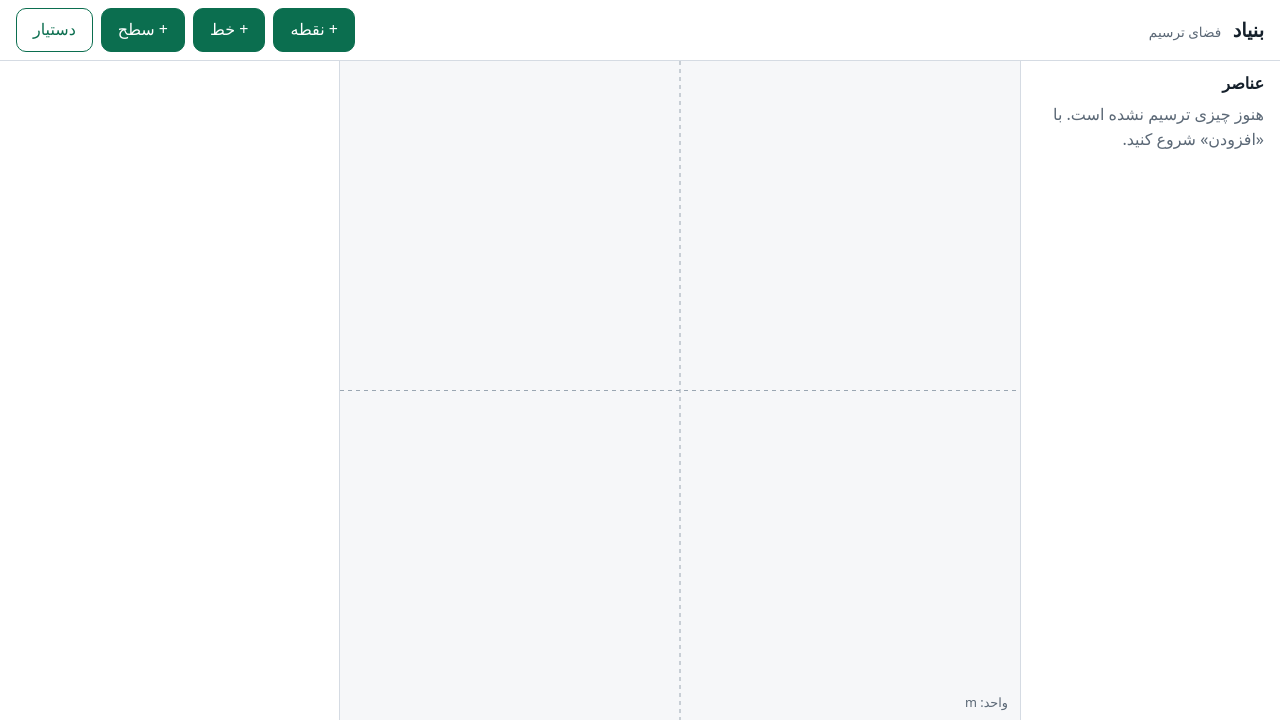
assistant panel › restores the last conversation after a reload
Click the button "دستیار" at (54, 30), box [16, 8, 93, 52]
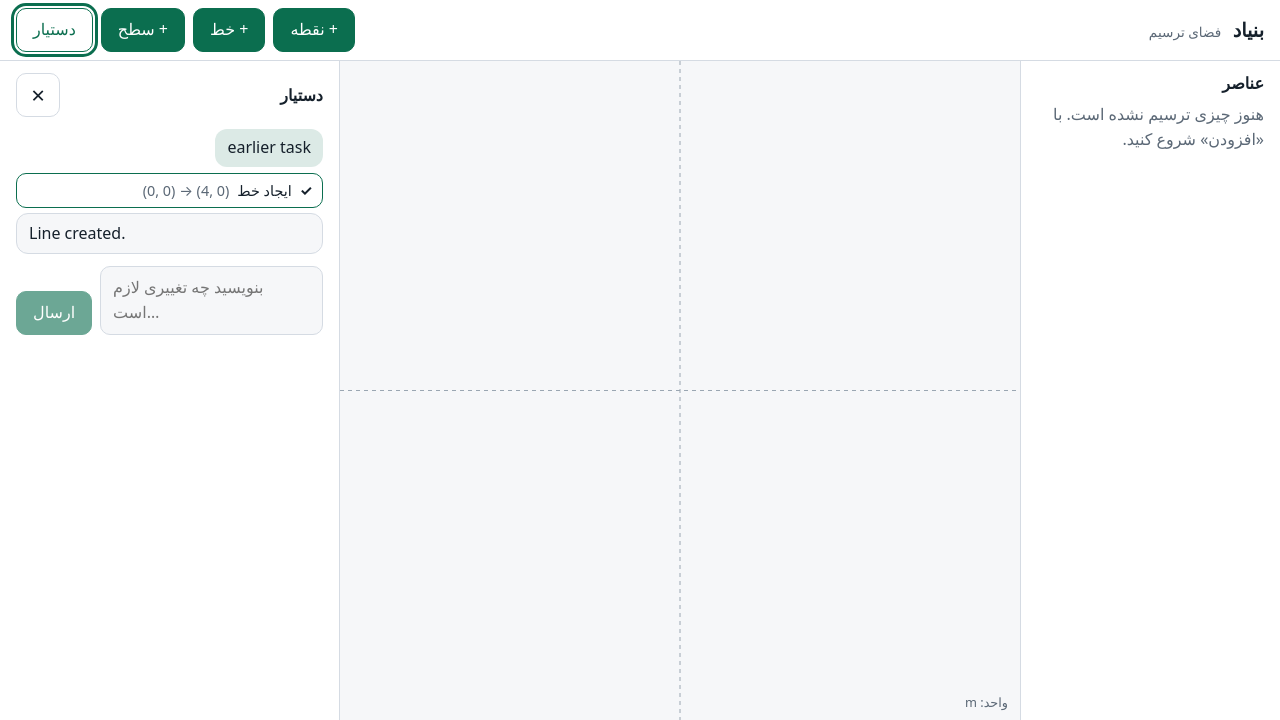
Result: the text "earlier task" is shown at [215, 129, 323, 167]
Result: the text "Line created." is shown at [16, 213, 323, 254]
Result: the text "ایجاد خط" is shown at [237, 179, 292, 202]
